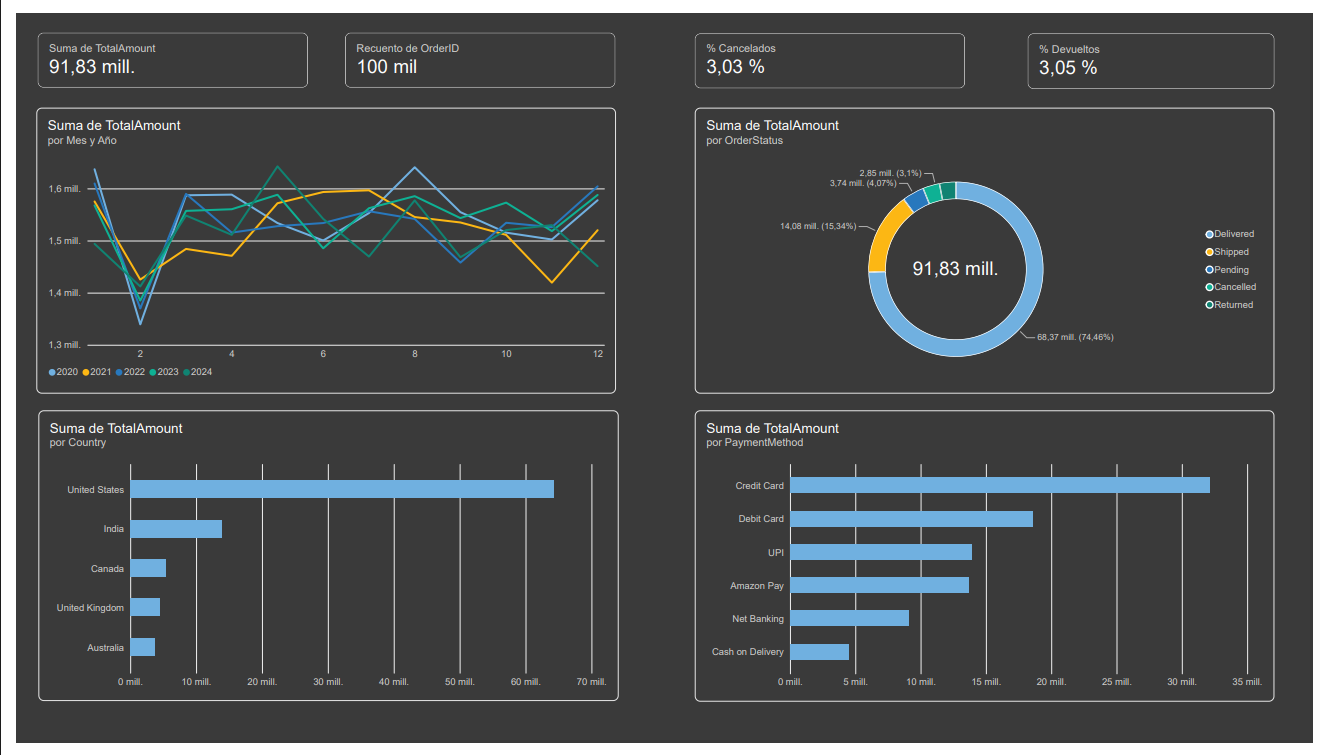

Layout of this report page (visuals, bound fields, positions):
{"tool":"powerbi","page":{"name":"Página 1","canvas":[1920,1080],"ordinal":0},"visuals":[{"type":"lineChart","fields":{"Category":["Amazon.Mes"],"Series":["Amazon.Año"],"Y":["Sum(Amazon.TotalAmount)"]},"box":[30,140,857.5,422.5],"z":0},{"type":"cardVisual","fields":{"Data":["Sum(Amazon.TotalAmount)"]},"box":[31.6,28.9,400,81.6],"z":1000},{"type":"cardVisual","fields":{"Data":["CountNonNull(Amazon.OrderID)"]},"box":[486.8,28.9,400,81.6],"z":2000},{"type":"cardVisual","fields":{"Data":["Amazon.% Cancelados"]},"box":[1005,30,400,82],"z":3000},{"type":"cardVisual","fields":{"Data":["Amazon.% Devueltos"]},"box":[1497.5,30,365,82.5],"z":3001},{"type":"donutChart","fields":{"Category":["Amazon.OrderStatus"],"Y":["Sum(Amazon.TotalAmount)"]},"box":[1005,140,857.5,422.5],"z":3002},{"type":"clusteredBarChart","fields":{"Category":["Amazon.Country"],"Y":["Sum(Amazon.TotalAmount)"]},"box":[32.5,587.5,859.5,431],"z":3003},{"type":"clusteredBarChart","fields":{"Category":["Amazon.PaymentMethod"],"Y":["Sum(Amazon.TotalAmount)"]},"box":[1005,587.5,858,431],"z":3004}]}

Visuals, with their boxes in screenshot pixels (x1, y1, x2, y2), scaled from the page's 1920x1080 canvas onto the 1328x755 screenshot:
lineChart - Amazon.Mes x Amazon.Año: box(21, 98, 614, 393)
cardVisual - Sum(Amazon.TotalAmount): box(22, 20, 299, 77)
cardVisual - CountNonNull(Amazon.OrderID): box(337, 20, 613, 77)
cardVisual - Amazon.% Cancelados: box(695, 21, 972, 78)
cardVisual - Amazon.% Devueltos: box(1036, 21, 1288, 79)
donutChart - Amazon.OrderStatus x Sum(Amazon.TotalAmount): box(695, 98, 1288, 393)
clusteredBarChart - Amazon.Country x Sum(Amazon.TotalAmount): box(22, 411, 617, 712)
clusteredBarChart - Amazon.PaymentMethod x Sum(Amazon.TotalAmount): box(695, 411, 1289, 712)
